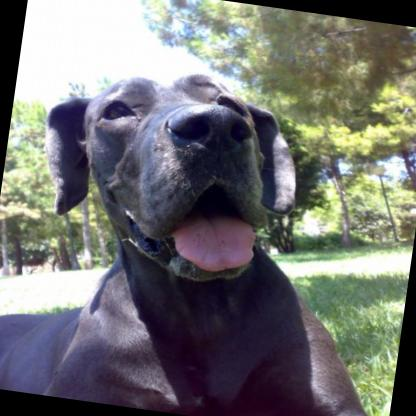Great_Dane: (0, 47, 416, 416)
